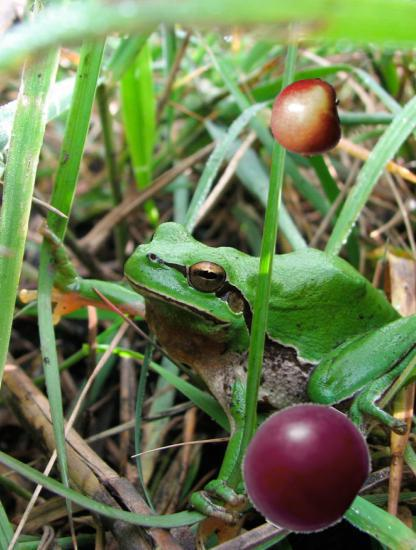Apple: (267, 77, 348, 158)
Cherry: (239, 401, 372, 534)
